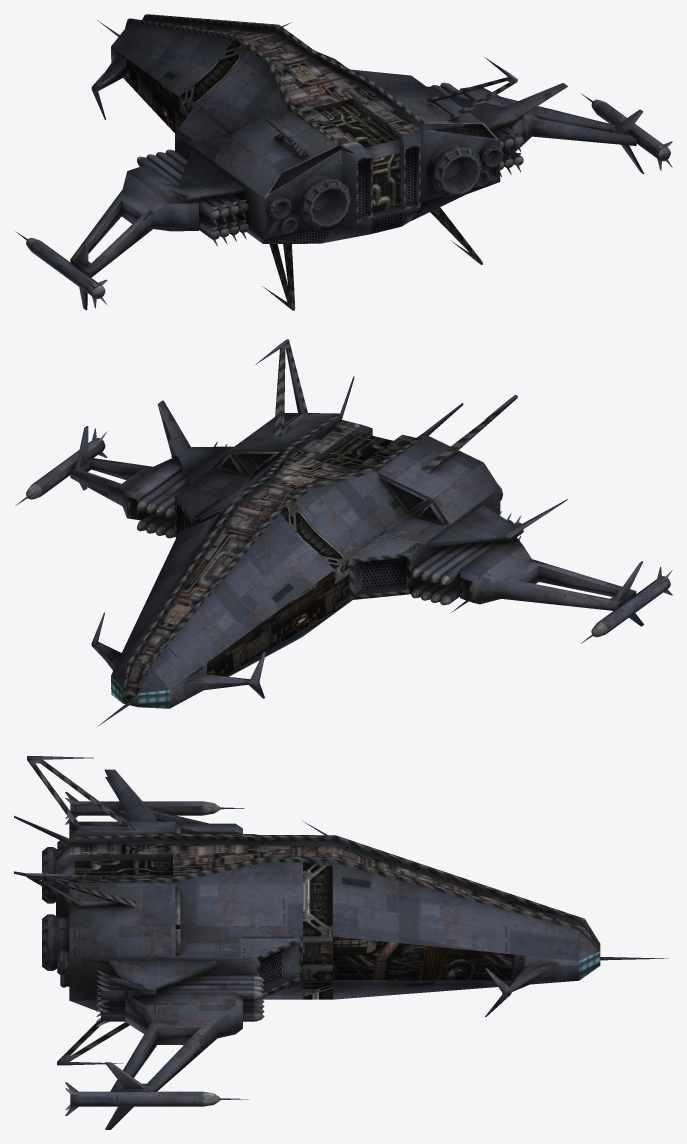
The model's file is spaceship.fbx.
3 renders of one model, top to bottom at view 1: azimuth 30°, elevation 25°; view 2: azimuth 150°, elevation 25°; view 3: azimuth 270°, elevation 25°, orthographic. The views are drawn at different scales.
Visible parts, largest first — view 1: Object01; view 2: Object01; view 3: Object01.
Part boxes in pixels (x1,y1,x2,y2): Object01: (15, 14, 672, 310); Object01: (15, 339, 672, 726); Object01: (14, 756, 668, 1129).
Bounding box in the file's own units: 68.48 × 21.64 × 64.14.
